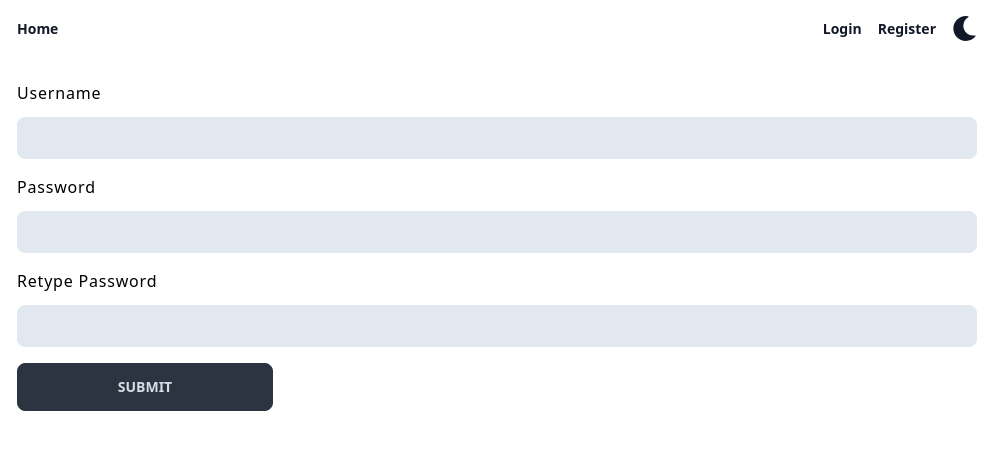
Test case: Register Page › Action for Register › should show error message when password is not match
Type "admin" into the field named "input-username". click: (497, 138)
box: [17,117,977,159]
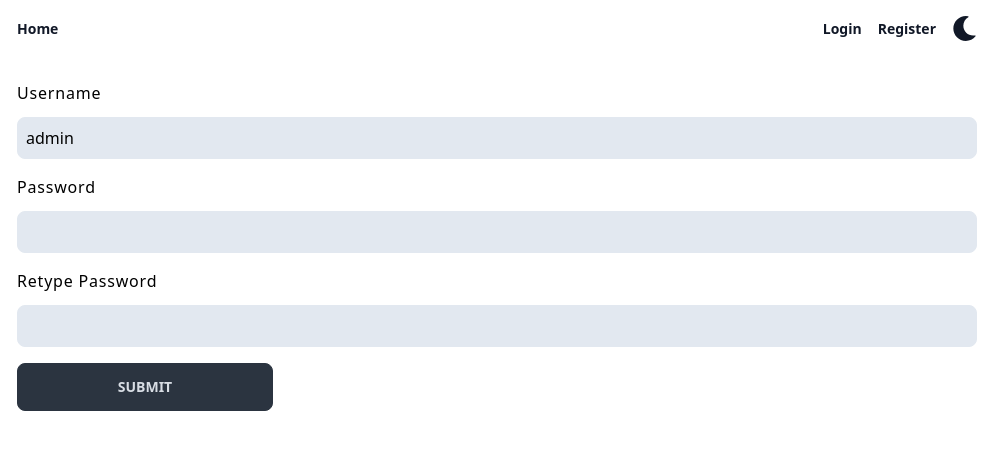
Type "password123" into the password field named "input-password". click: (497, 232)
box: [17,211,977,253]
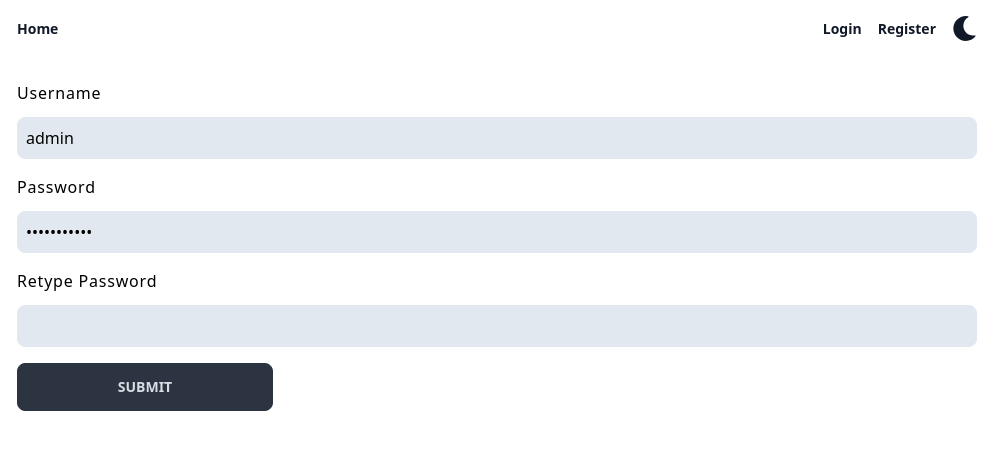
Type "Password123" into the password field named "input-repassword". click: (497, 326)
box: [17,305,977,347]
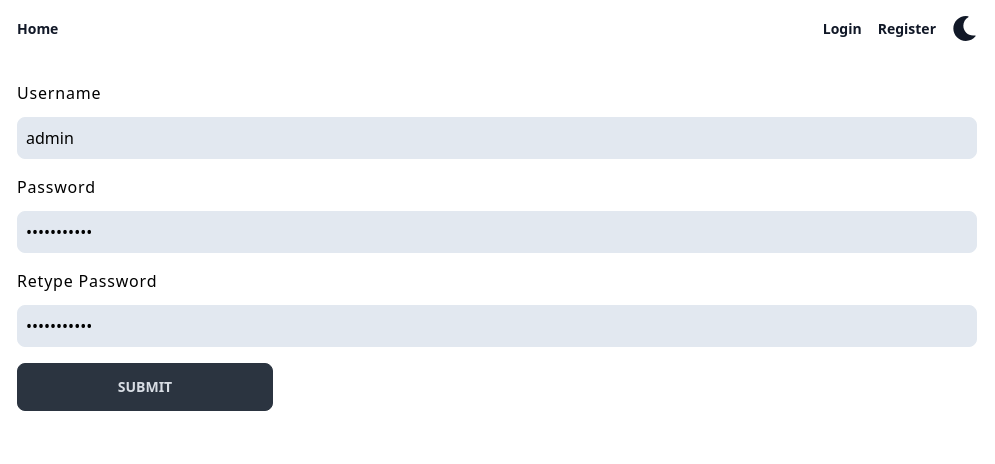
Click the button with aria-label "btn-submit". click: click(145, 387)
box: [17,363,273,411]
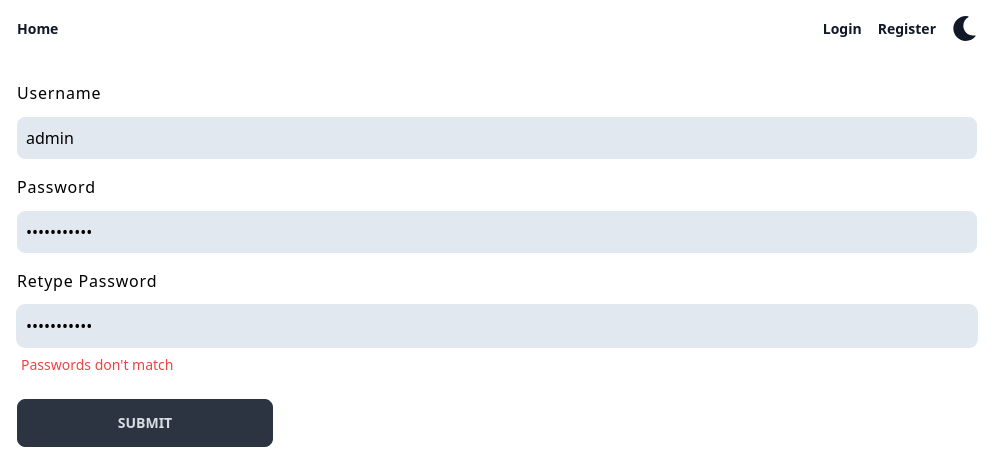
Now the text "Passwords don't match" is shown, box [21,355,174,375]
